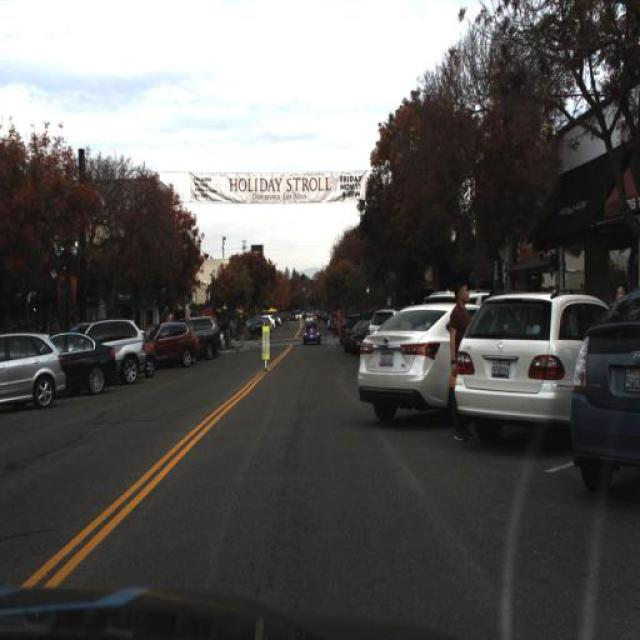car: (452, 286, 612, 426), (562, 278, 639, 494), (353, 299, 482, 422), (38, 325, 121, 394), (0, 330, 69, 410), (76, 316, 146, 384), (144, 326, 197, 374), (186, 314, 222, 358), (366, 304, 402, 338), (302, 319, 322, 345)
trafficLight: (446, 275, 476, 444)
